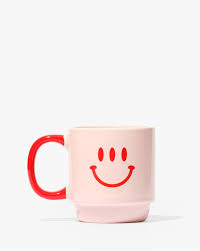mug: (26, 120, 159, 225)
